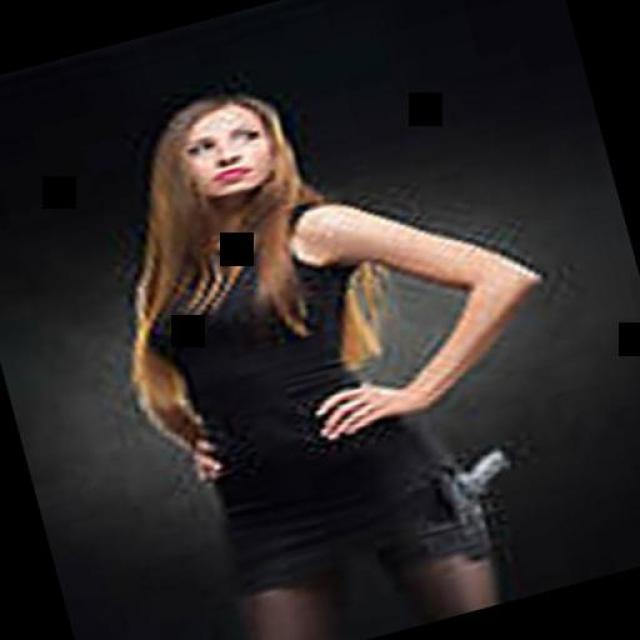gun: (428, 433, 528, 558)
